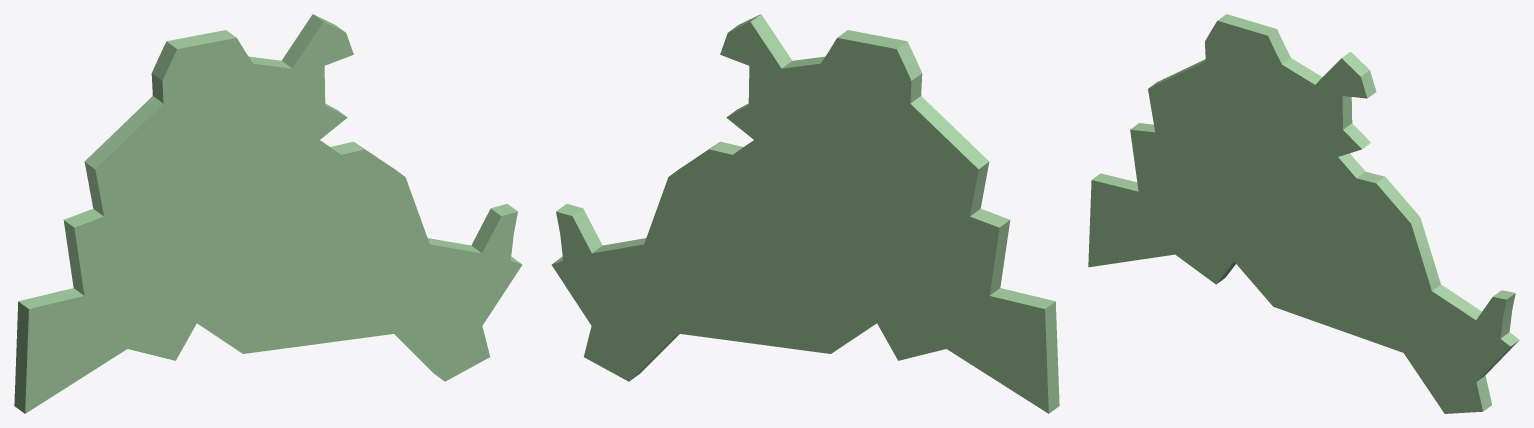
File: guanacevi.fbx
3 renders of one model, left to right at view 1: azimuth 30°, elevation 25°; view 2: azimuth 150°, elevation 25°; view 3: azimuth 330°, elevation 25°, orthographic. The views are drawn at different scales.
Visible parts, largest first — view 1: guanacevi; view 2: guanacevi; view 3: guanacevi.
Part boxes in pixels (x1=…): guanacevi: x1=14, y1=14, x2=522, y2=413; guanacevi: x1=551, y1=14, x2=1059, y2=413; guanacevi: x1=1088, y1=14, x2=1519, y2=413.
Size of the model in its own units: 213 by 163 by 8.
